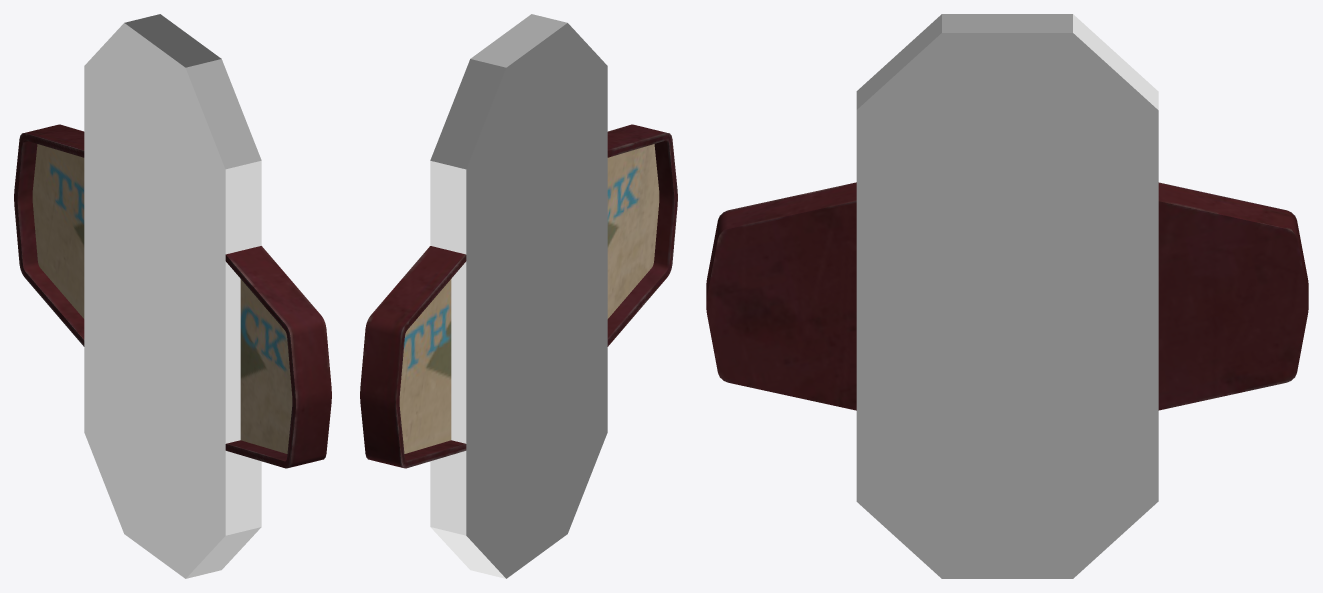
Rendered from SM_Billboard_17.fbx.
The picture shows the model from 3 angles, left to right: view 1: azimuth 30°, elevation 25°; view 2: azimuth 150°, elevation 25°; view 3: azimuth 270°, elevation 25°; orthographic projection. The views are drawn at different scales.
Visible parts, largest first — view 1: SM_Billboard_17_ConvexHulls, SM_Billboard_17_LOD0; view 2: SM_Billboard_17_ConvexHulls, SM_Billboard_17_LOD0; view 3: SM_Billboard_17_ConvexHulls, SM_Billboard_17_LOD0.
Boxes of the visible parts, bbox=[...] form: SM_Billboard_17_ConvexHulls: bbox=[84, 14, 261, 578]; SM_Billboard_17_LOD0: bbox=[14, 124, 331, 468]; SM_Billboard_17_ConvexHulls: bbox=[430, 14, 607, 578]; SM_Billboard_17_LOD0: bbox=[360, 124, 677, 468]; SM_Billboard_17_ConvexHulls: bbox=[856, 14, 1158, 578]; SM_Billboard_17_LOD0: bbox=[706, 182, 1308, 410].
Size of the model in its own units: 26.6 by 359 by 359.
